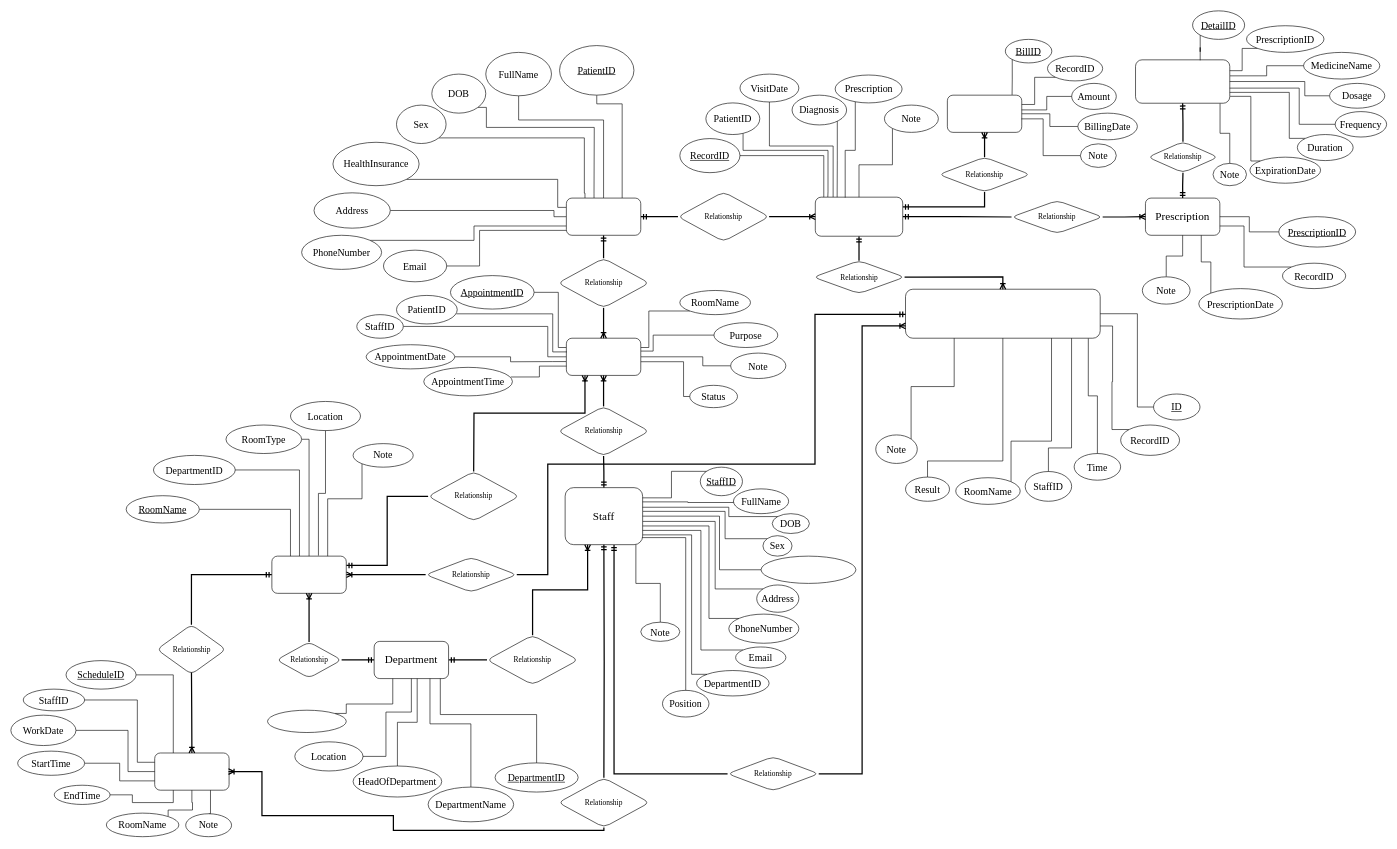
Image size: 1397x849. Some labels were removed from this diagram. The centre of each missing label's shape, as x and y in pixels:
Appointment: pixel 603 356
Billing: pixel 984 113
CitizenIdentification: pixel 808 569
MedicalExamination_TreatmentDetails: pixel 1002 313
MedicalRecord: pixel 859 216
Patient: pixel 603 216
PhoneExtension: pixel 306 721
PrescriptionDetail: pixel 1182 81
Room: pixel 308 574
StaffSchedule: pixel 191 771
